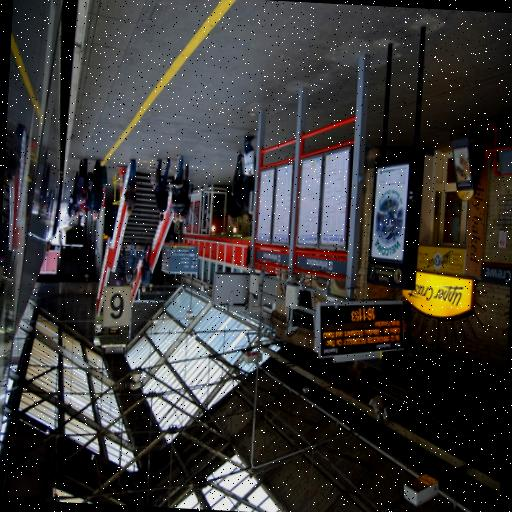platform_edge: (59, 0, 238, 183)
